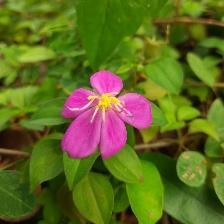malabar melastome: (61, 69, 155, 164)
